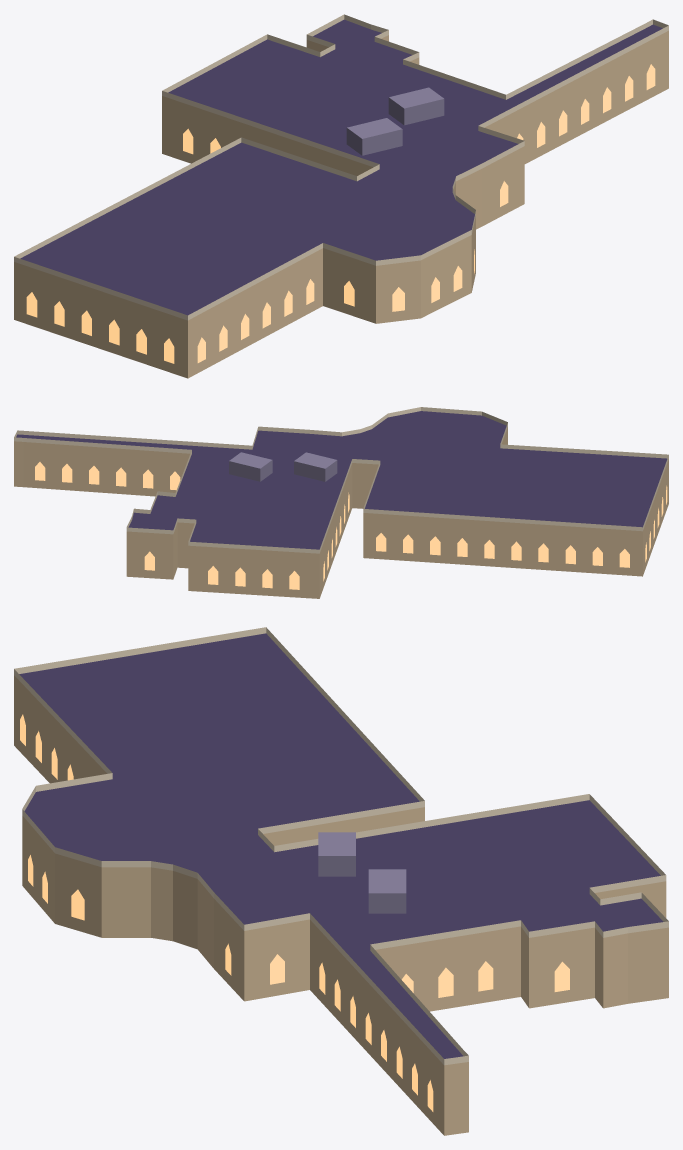
3 views of the same model, one above another, from view 1: azimuth 30°, elevation 25°; view 2: azimuth 150°, elevation 25°; view 3: azimuth 270°, elevation 25° (orthographic). The views are drawn at different scales.
Parts seen in each view (by area): view 1: campus/b-027-0; view 2: campus/b-027-0; view 3: campus/b-027-0.
Boxes of the visible parts, <box> form: campus/b-027-0: <box>14,14,668,378</box>; campus/b-027-0: <box>14,407,668,598</box>; campus/b-027-0: <box>14,627,668,1135</box>.
Size of the model in its own units: 81.44 by 8 by 52.19.
